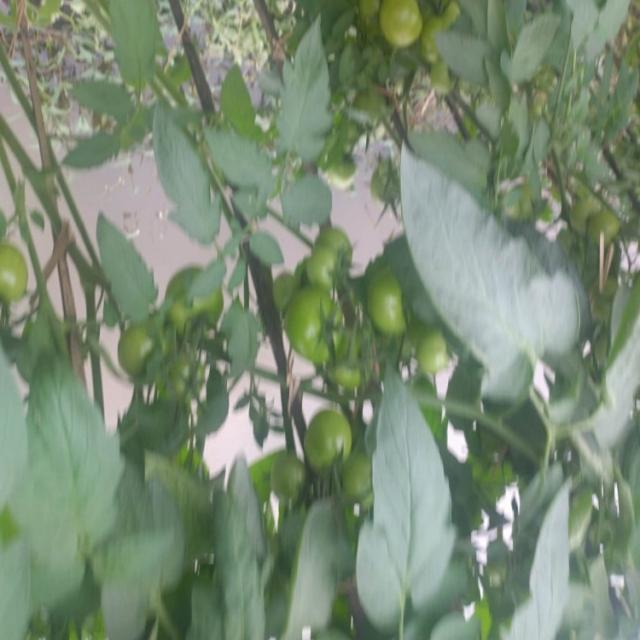tomato: (278, 278, 358, 363), (289, 394, 363, 473), (361, 256, 419, 342), (156, 264, 220, 337), (112, 312, 172, 375), (156, 350, 210, 411), (291, 242, 354, 292), (310, 220, 370, 269), (374, 1, 427, 48), (1, 231, 33, 308), (419, 319, 456, 376), (421, 1, 450, 26)
